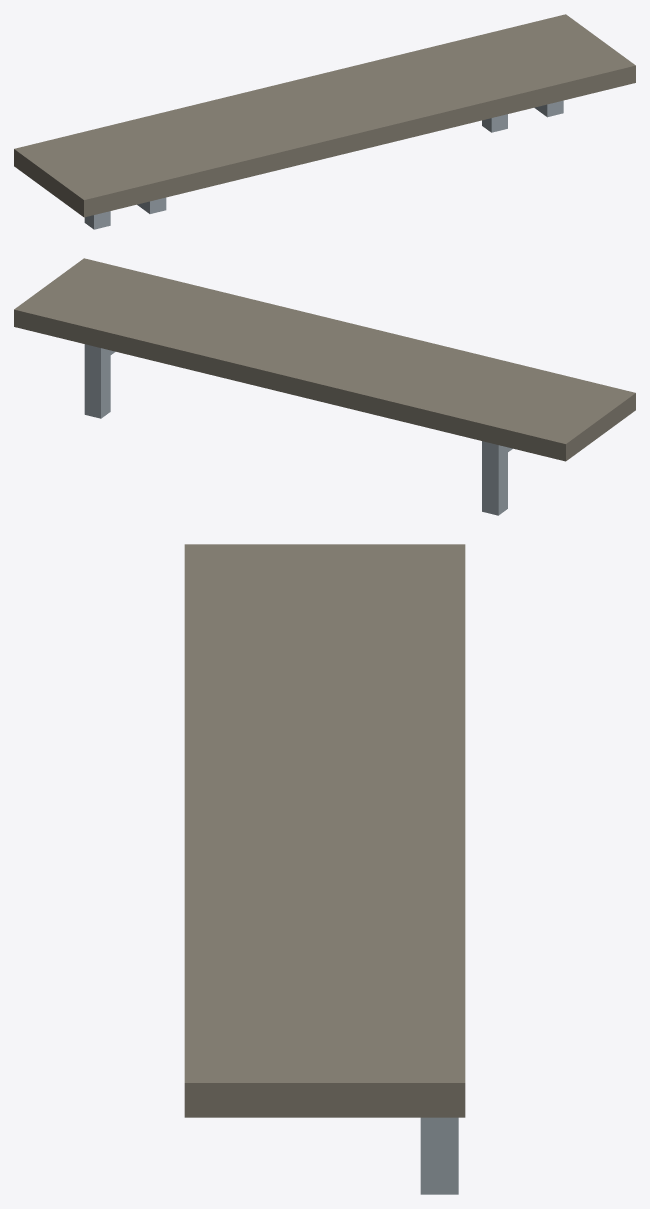
File: GH_Shelf_Wall_04.glb
3 views of the same model, one above another, from view 1: azimuth 30°, elevation 25°; view 2: azimuth 150°, elevation 25°; view 3: azimuth 270°, elevation 25° (orthographic). The views are drawn at different scales.
Parts seen in each view (by area): view 1: GH_Shelf_Wall_04; view 2: GH_Shelf_Wall_04; view 3: GH_Shelf_Wall_04.
Part boxes in pixels (bbox=[...]): GH_Shelf_Wall_04: bbox=[14, 14, 635, 229]; GH_Shelf_Wall_04: bbox=[14, 258, 635, 515]; GH_Shelf_Wall_04: bbox=[184, 544, 465, 1194].
Bounding box in the file's own units: 1 × 0.155 × 0.22.
Materials: 1 (1 with a texture image).
